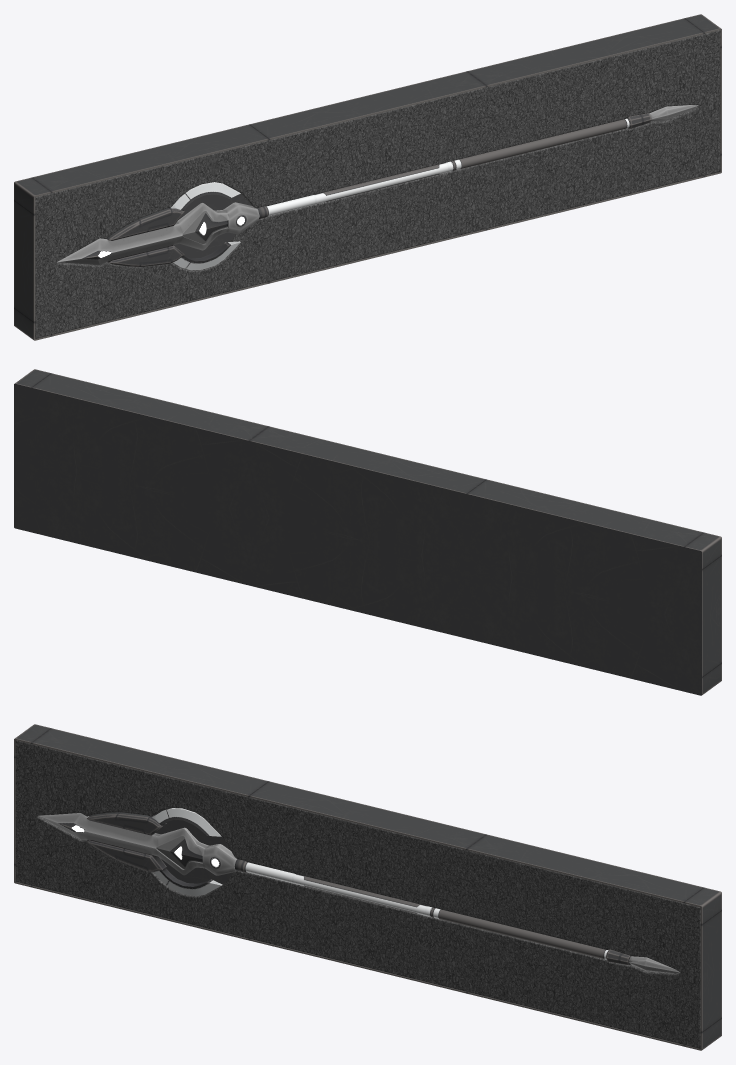
The model's file is MeleeSpear02Case.FBX.
The picture shows the model from 3 angles, top to bottom: view 1: azimuth 30°, elevation 25°; view 2: azimuth 150°, elevation 25°; view 3: azimuth 330°, elevation 25°; orthographic projection.
Visible parts, largest first — view 1: Case, Weapon; view 2: Case; view 3: Case, Weapon.
Part boxes in pixels (x1,y1,x2,y2): Case: (14,14,721,340); Weapon: (57,105,697,270); Case: (14,369,721,695); Case: (14,724,721,1050); Weapon: (39,808,679,973).
Size of what is drawn, in the model's own units: 2 by 0.402 by 0.1176.
